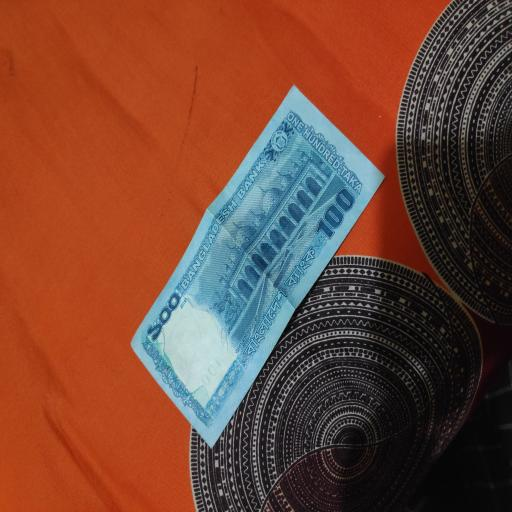100taka: (132, 85, 386, 448)
